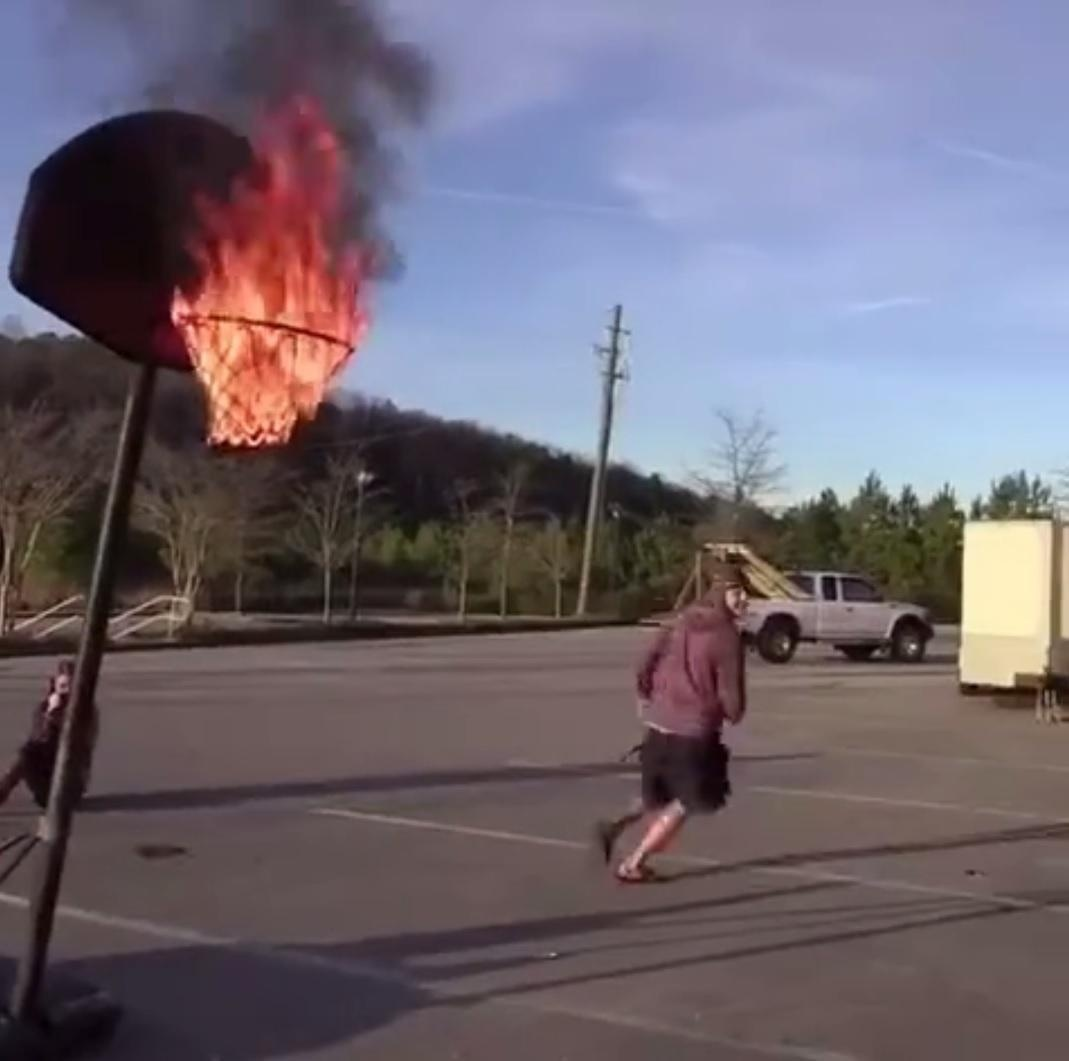fire: (167, 102, 382, 449)
